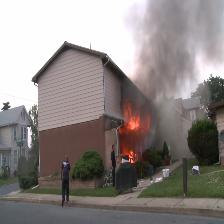fire: (111, 95, 150, 172)
smoke: (121, 0, 224, 98)
